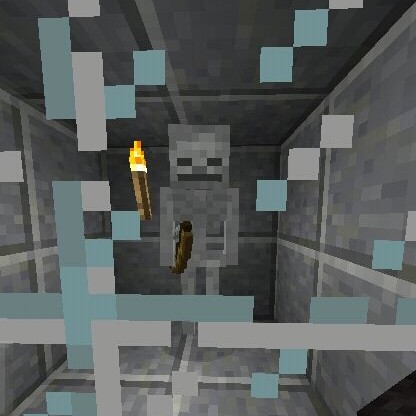skeleton: (157, 115, 247, 286)
